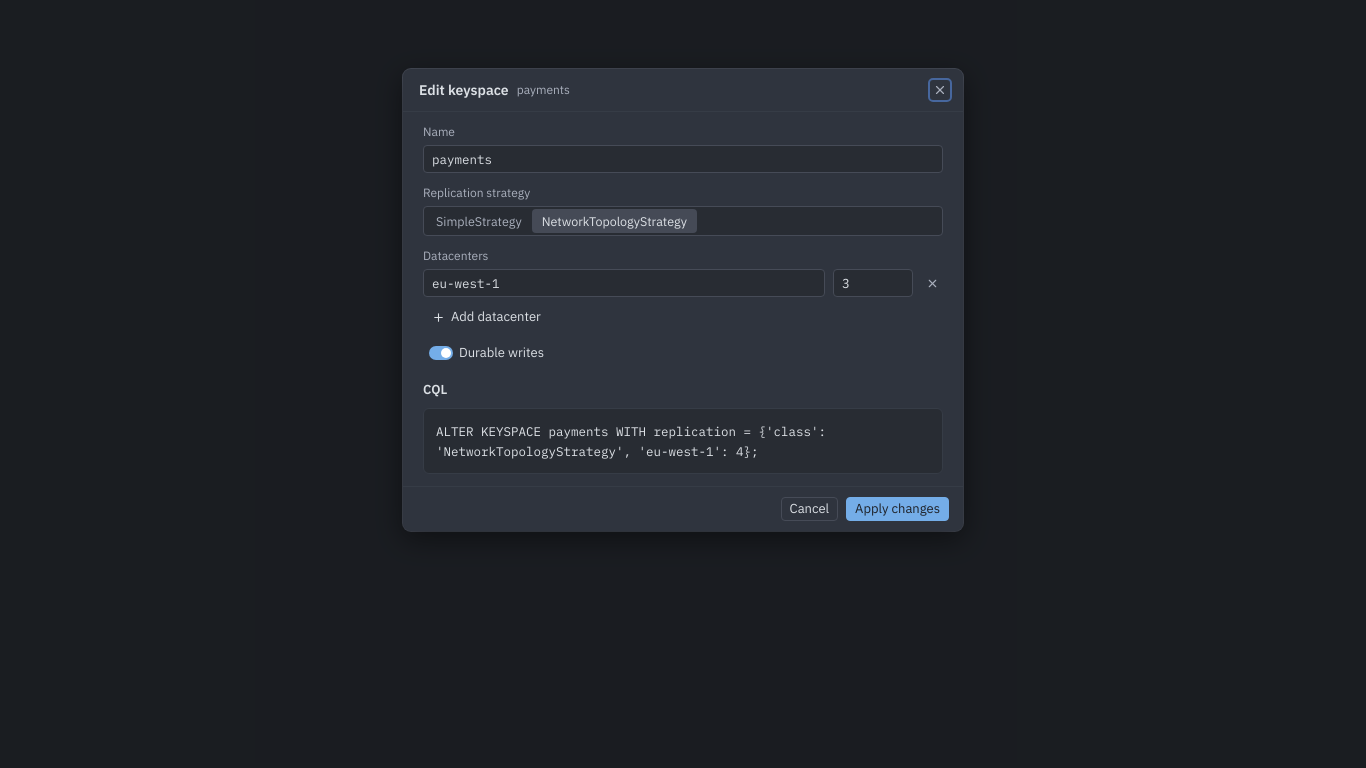
EditKeyspaceDialog › shows a server error inline and keeps the form
What coordinates should you click on to do the following:
click the button "Apply changes"
I would click on:
 (898, 509)
Its box is [846,497,949,521].
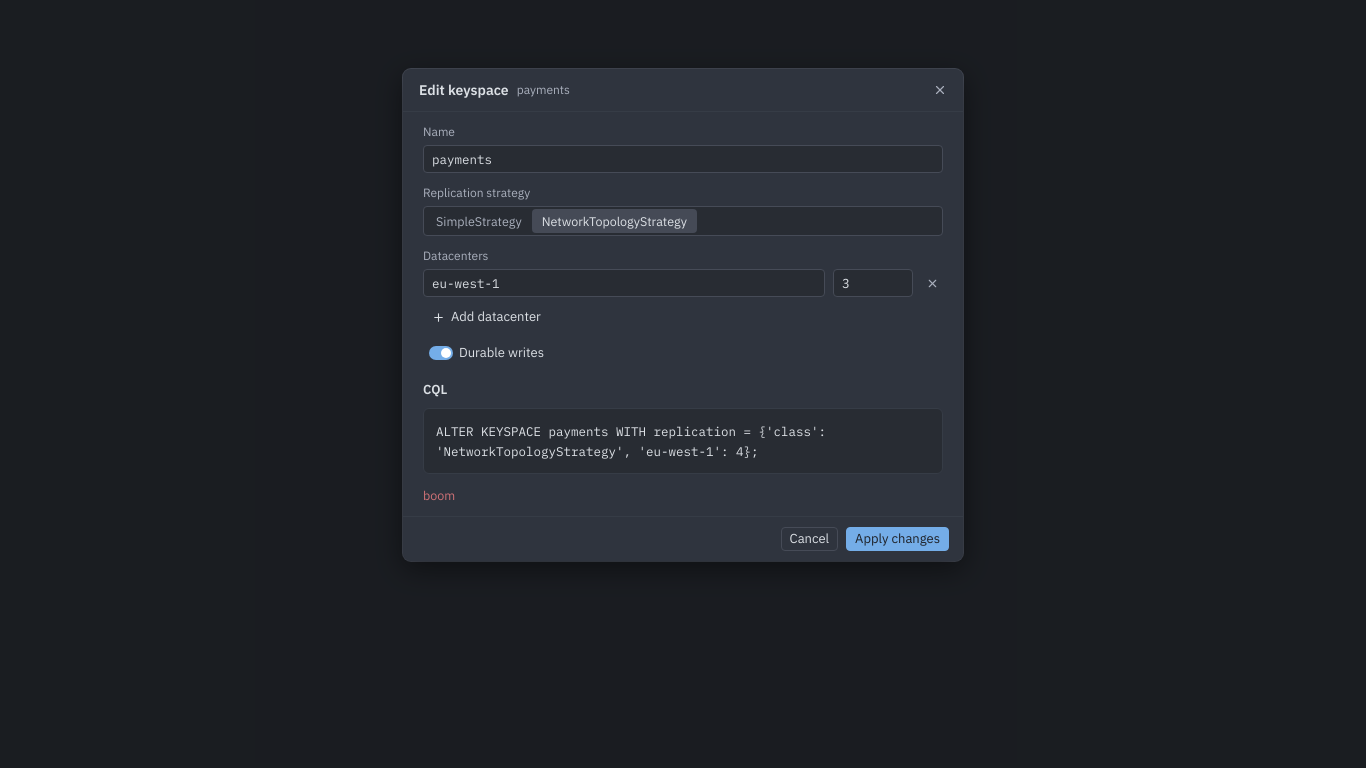
Result: the message reads "boom" at [423,487,455,503]
